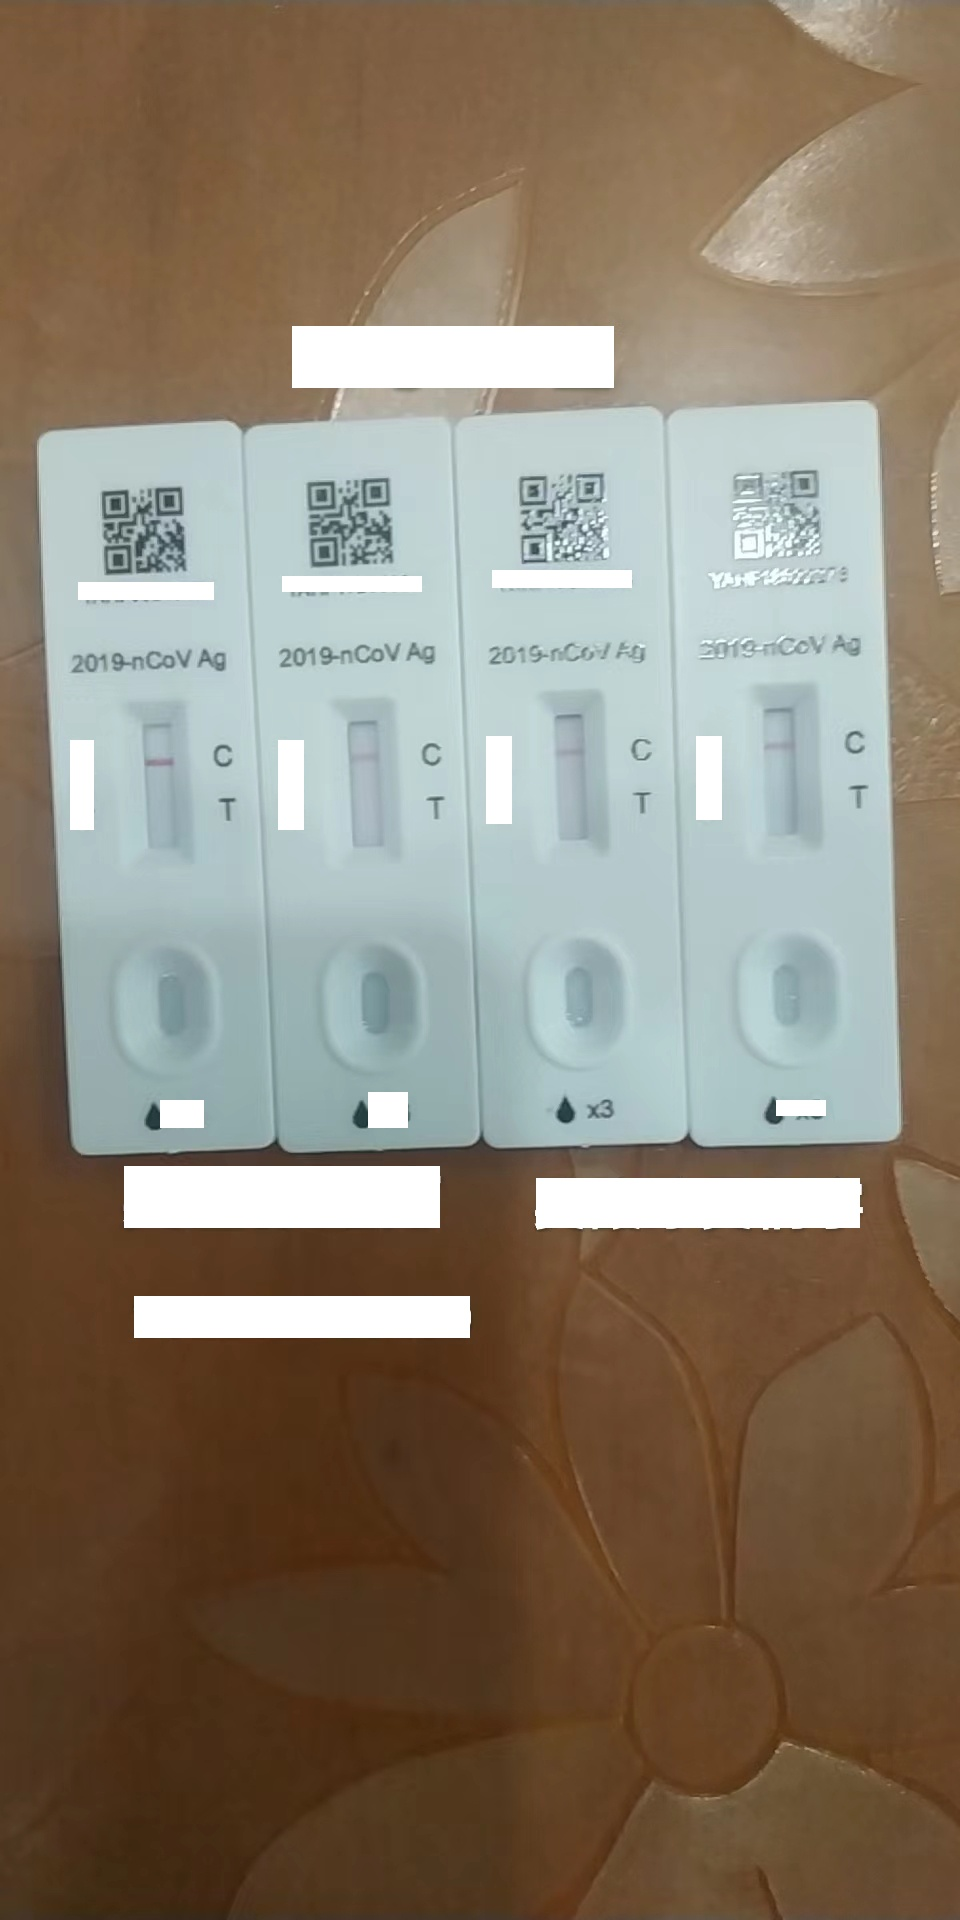negative: (744, 684, 823, 852), (124, 700, 193, 869), (539, 691, 610, 852), (336, 698, 398, 863)
